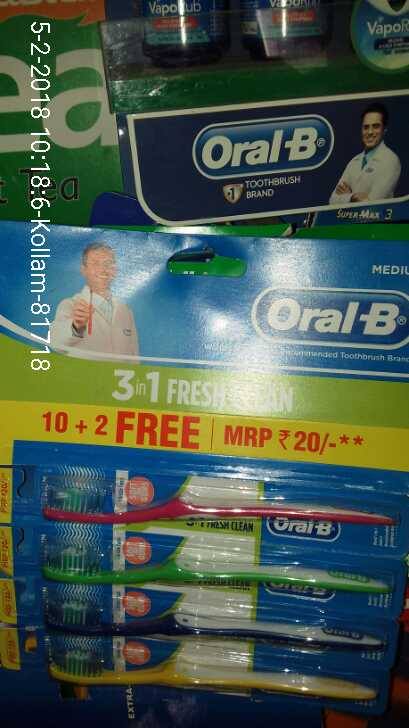oralb: (34, 631, 396, 728), (33, 446, 407, 534), (19, 578, 409, 649), (16, 531, 398, 585)
